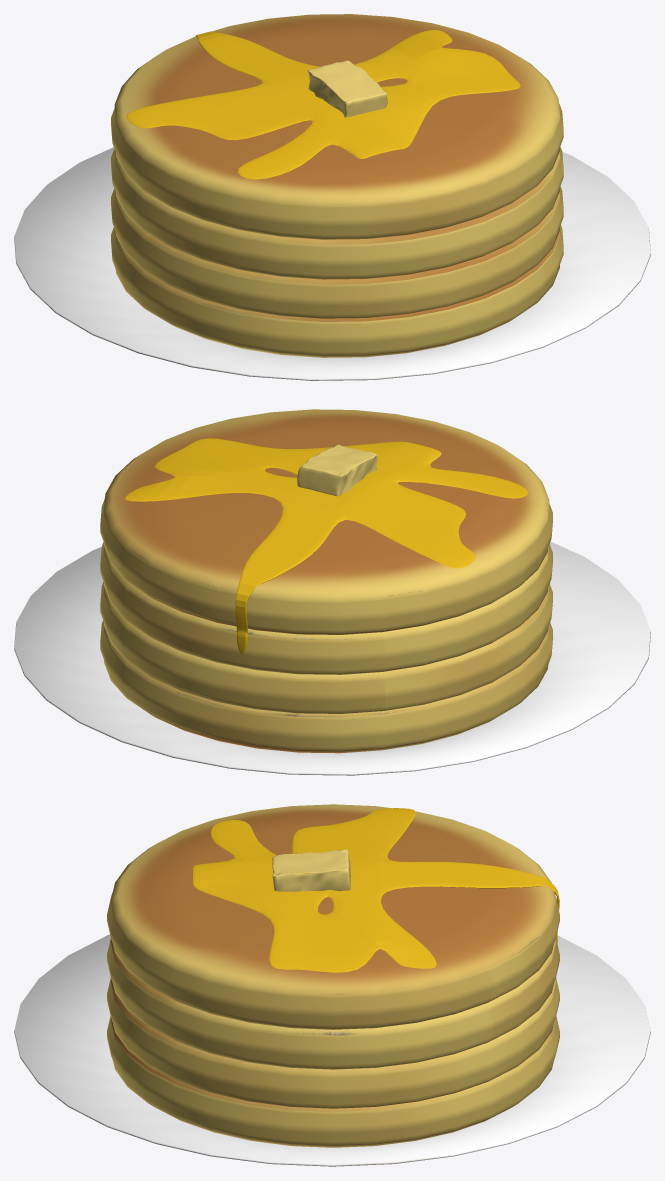
The model's file is Pancakes.fbx.
3 renders of one model, top to bottom at view 1: azimuth 30°, elevation 25°; view 2: azimuth 150°, elevation 25°; view 3: azimuth 270°, elevation 25°, orthographic.
Parts seen in each view (by area): view 1: Pancakes; view 2: Pancakes; view 3: Pancakes.
Part boxes in pixels (x1,y1,x2,y2): Pancakes: (14,14,650,380); Pancakes: (14,409,650,775); Pancakes: (14,804,650,1166).
Size of the model in its own units: 75.82 by 29.03 by 75.82.
Materials: 1 (1 with a texture image).
